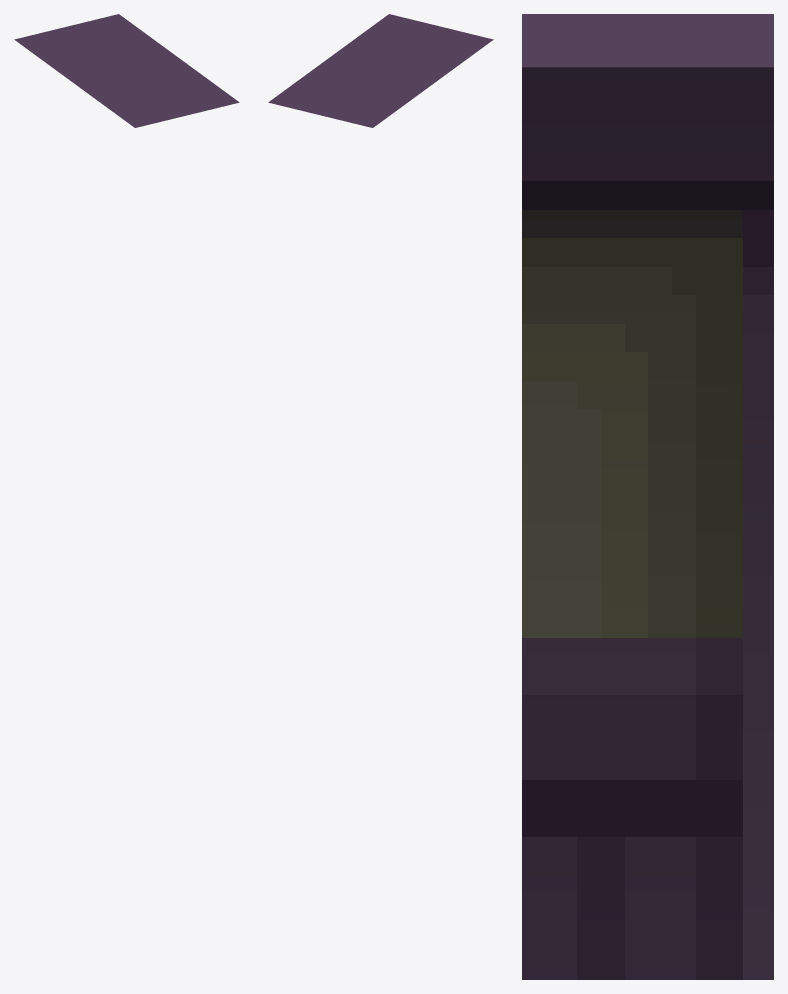
The picture shows the model from 3 angles, left to right: view 1: azimuth 30°, elevation 25°; view 2: azimuth 150°, elevation 25°; view 3: azimuth 270°, elevation 25°; orthographic projection. The views are drawn at different scales.
Size of the model in its own units: 0.5 by 4 by 1.
2 materials, 2 textured.
